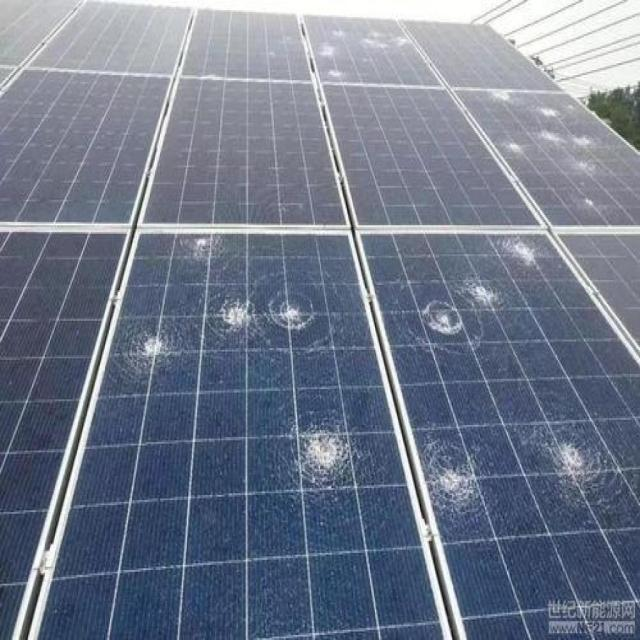cracked: (60, 226, 388, 635), (372, 225, 638, 640), (456, 79, 640, 232), (313, 6, 425, 84)
